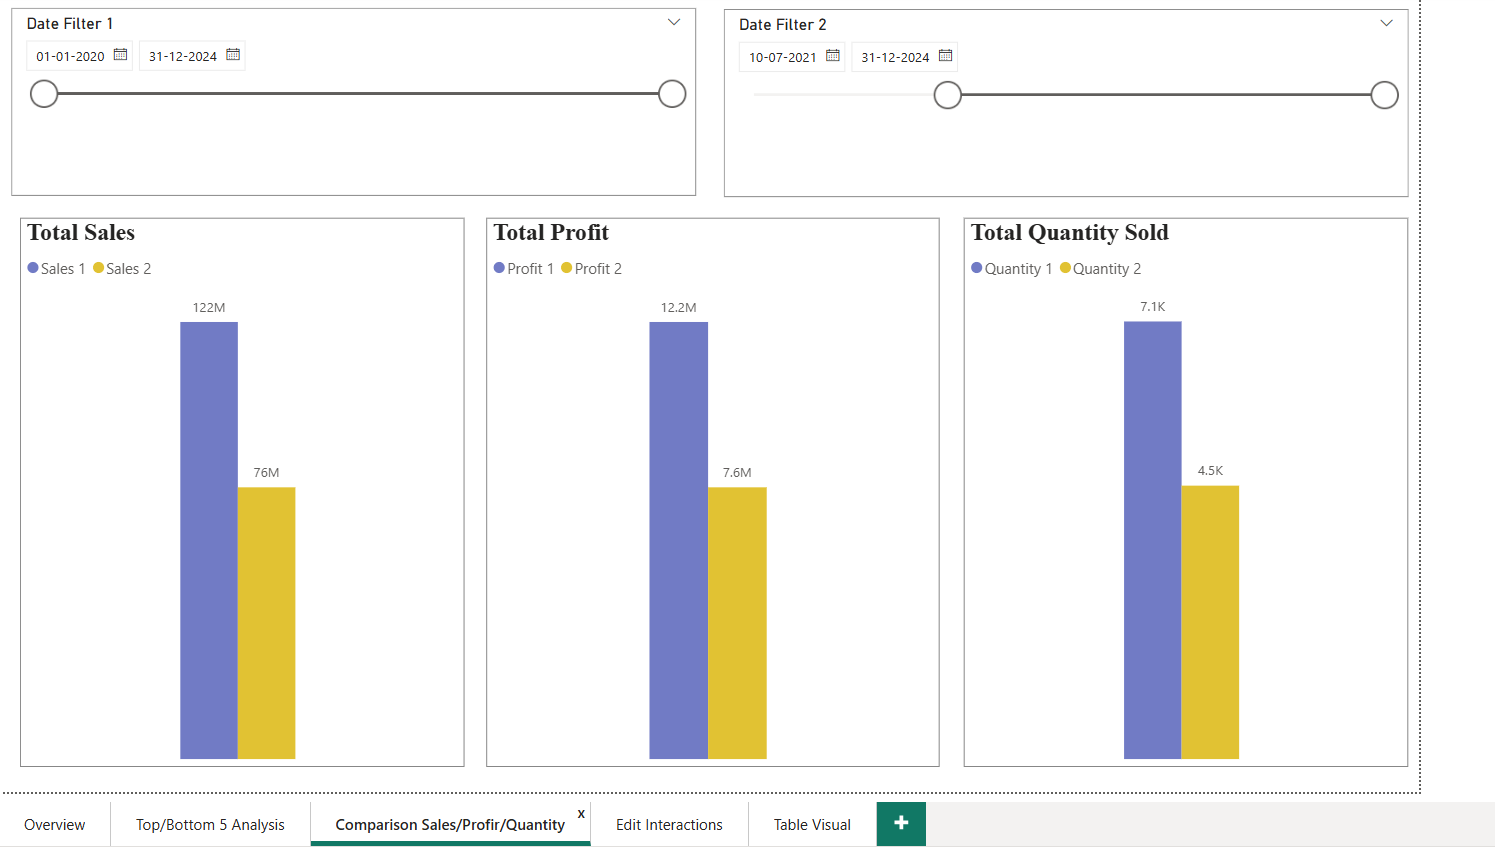

The dashboard page shown, as its layout file describes it:
{"tool":"powerbi","page":{"name":"Comparison Sales/Profir/Quantity","canvas":[1280,720],"ordinal":2},"visuals":[{"type":"slicer","fields":{"Values":["Date Table 1.Date"]},"box":[9.8,12.2,617.5,170],"z":0},{"type":"slicer","fields":{"Values":["Date Table 2.Date"]},"box":[653,13.5,617.5,170],"z":1000},{"type":"clusteredColumnChart","title":"Total Sales","fields":{"Y":["Sum(Fact Table.Net Sales )","Date Table 1.Sum of Net Sales"]},"box":[18.3,201.8,401.1,495.2],"z":2000},{"type":"clusteredColumnChart","title":"Total Profit","fields":{"Y":["Sum(Fact Table.Profit)","Measures Table.Total Profit"]},"box":[439,201.8,408.4,495.2],"z":3000},{"type":"clusteredColumnChart","title":"Total Quantity Sold","fields":{"Y":["Sum(Fact Table.Units Sold)","Measures Table.Quantity Sold"]},"box":[869.4,201.8,401.1,495.2],"z":4000}]}

Visuals, with their boxes on the page's 1280x720 design canvas (x1, y1, x2, y2). These are canvas units, not pixel positions in the 1495x847 screenshot, which may show the page scaled, cropped or inside an application window:
slicer - Date Table 1.Date: (left=10, top=12, right=627, bottom=182)
slicer - Date Table 2.Date: (left=653, top=14, right=1270, bottom=184)
"Total Sales" clusteredColumnChart: (left=18, top=202, right=419, bottom=697)
"Total Profit" clusteredColumnChart: (left=439, top=202, right=847, bottom=697)
"Total Quantity Sold" clusteredColumnChart: (left=869, top=202, right=1270, bottom=697)
